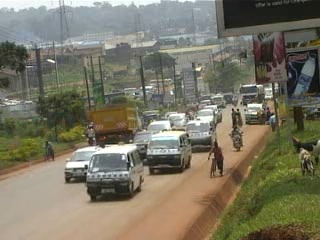Car: (62, 144, 103, 184), (124, 129, 159, 160), (144, 117, 178, 142), (163, 111, 191, 132), (202, 103, 226, 123), (195, 109, 219, 127), (221, 91, 236, 107)
Motorcycle: (228, 125, 247, 154)
